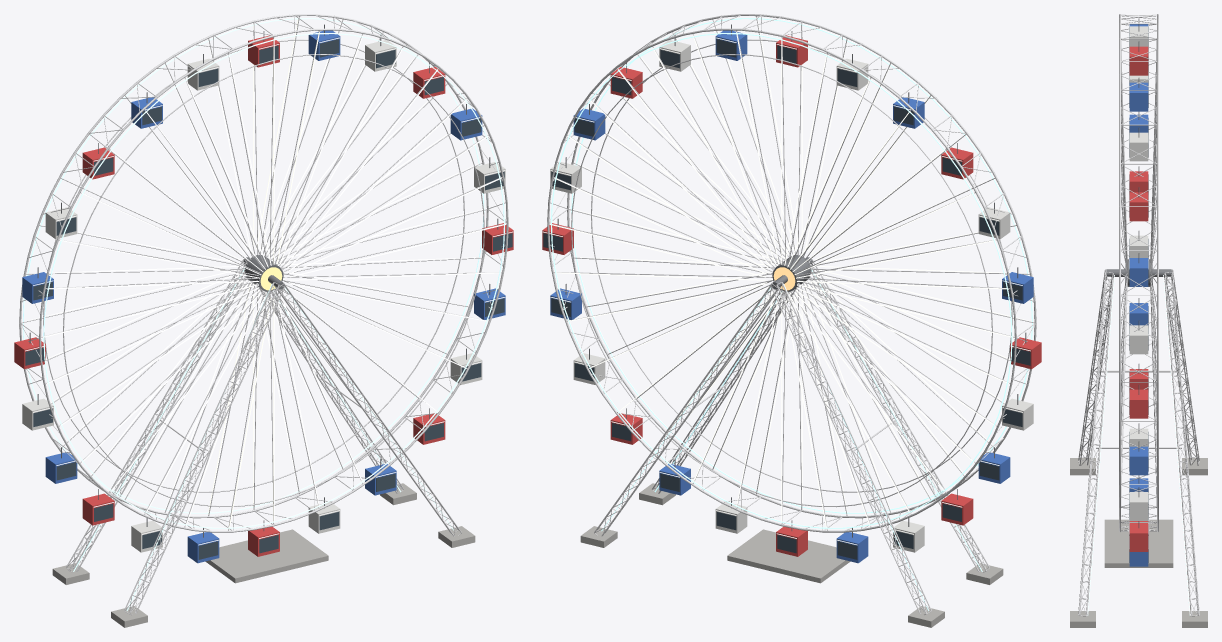
Rendered from ferris_wheel.glb.
3 views of the same model, side by side, from view 1: azimuth 30°, elevation 25°; view 2: azimuth 150°, elevation 25°; view 3: azimuth 270°, elevation 25° (orthographic). The views are drawn at different scales.
Parts seen in each view (by area): view 1: rotor, ferris_wheel; view 2: rotor, ferris_wheel; view 3: rotor, ferris_wheel.
Boxes of the visible parts, x1,y1,x2,y2 form: rotor: (14, 14, 513, 563); ferris_wheel: (52, 257, 475, 627); rotor: (542, 14, 1041, 563); ferris_wheel: (580, 257, 1003, 627); rotor: (1119, 14, 1158, 566); ferris_wheel: (1070, 269, 1207, 627).
Size of the model in its own units: 62.8 by 65.12 by 16.
